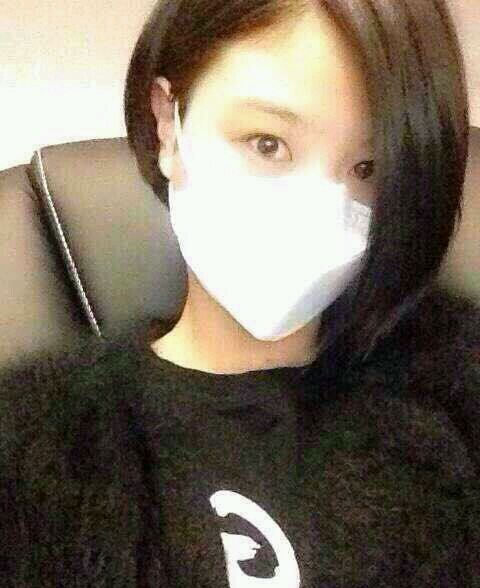face_mask: (176, 6, 383, 324)
